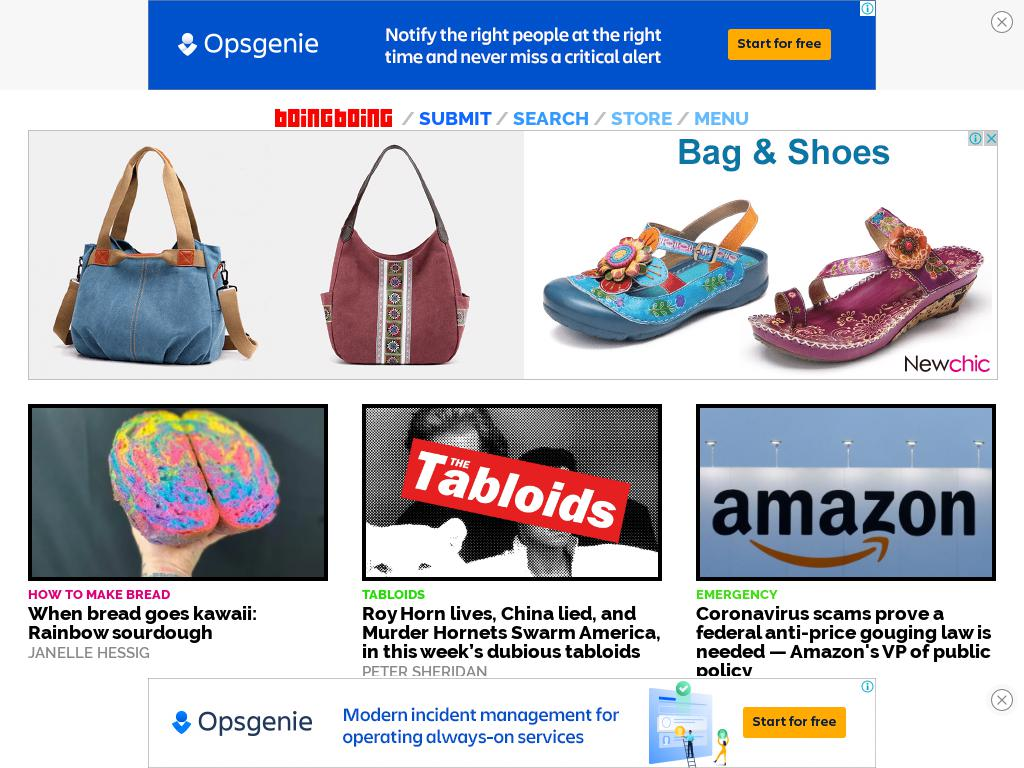heading: (361, 404, 663, 601), (695, 404, 996, 601), (695, 601, 991, 681), (361, 601, 661, 662), (28, 601, 257, 643), (28, 756, 666, 768), (28, 588, 329, 601), (361, 662, 488, 681), (28, 643, 150, 662), (695, 681, 789, 700)
iframe: (28, 130, 996, 378), (148, 0, 876, 90), (148, 678, 876, 768), (696, 728, 996, 768)
image: (275, 109, 392, 127), (992, 12, 1012, 32), (992, 690, 1012, 710)
link: (513, 107, 589, 129), (419, 107, 491, 129), (611, 107, 672, 129), (694, 107, 749, 129)
text: (397, 107, 419, 129), (491, 107, 513, 129), (589, 107, 611, 129), (672, 107, 694, 129)
